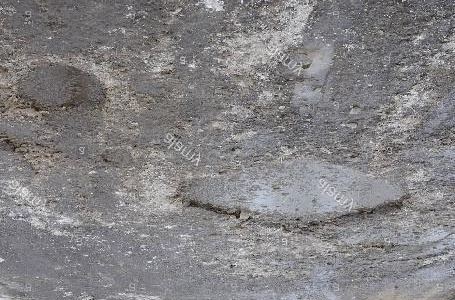pothole: (169, 156, 413, 238), (9, 61, 106, 115), (272, 42, 341, 112)
